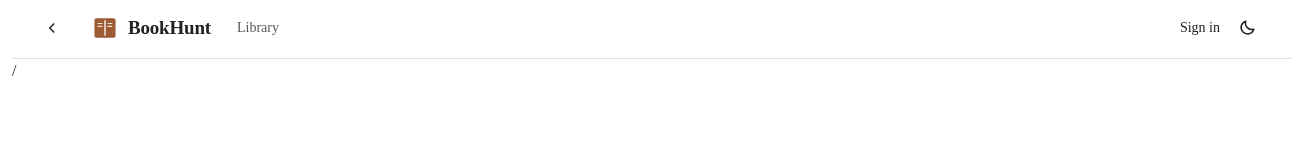
TopBar › shows a Sign in link to /login when logged out
Click the link "Sign in". click: x=1200, y=28
box: top-left (1180, 17), bottom-right (1220, 38)
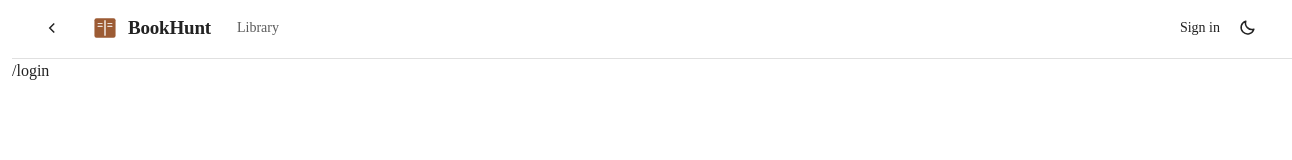
Now the text with test id "location" reads "/login", box top-left (12, 62), bottom-right (49, 79)
